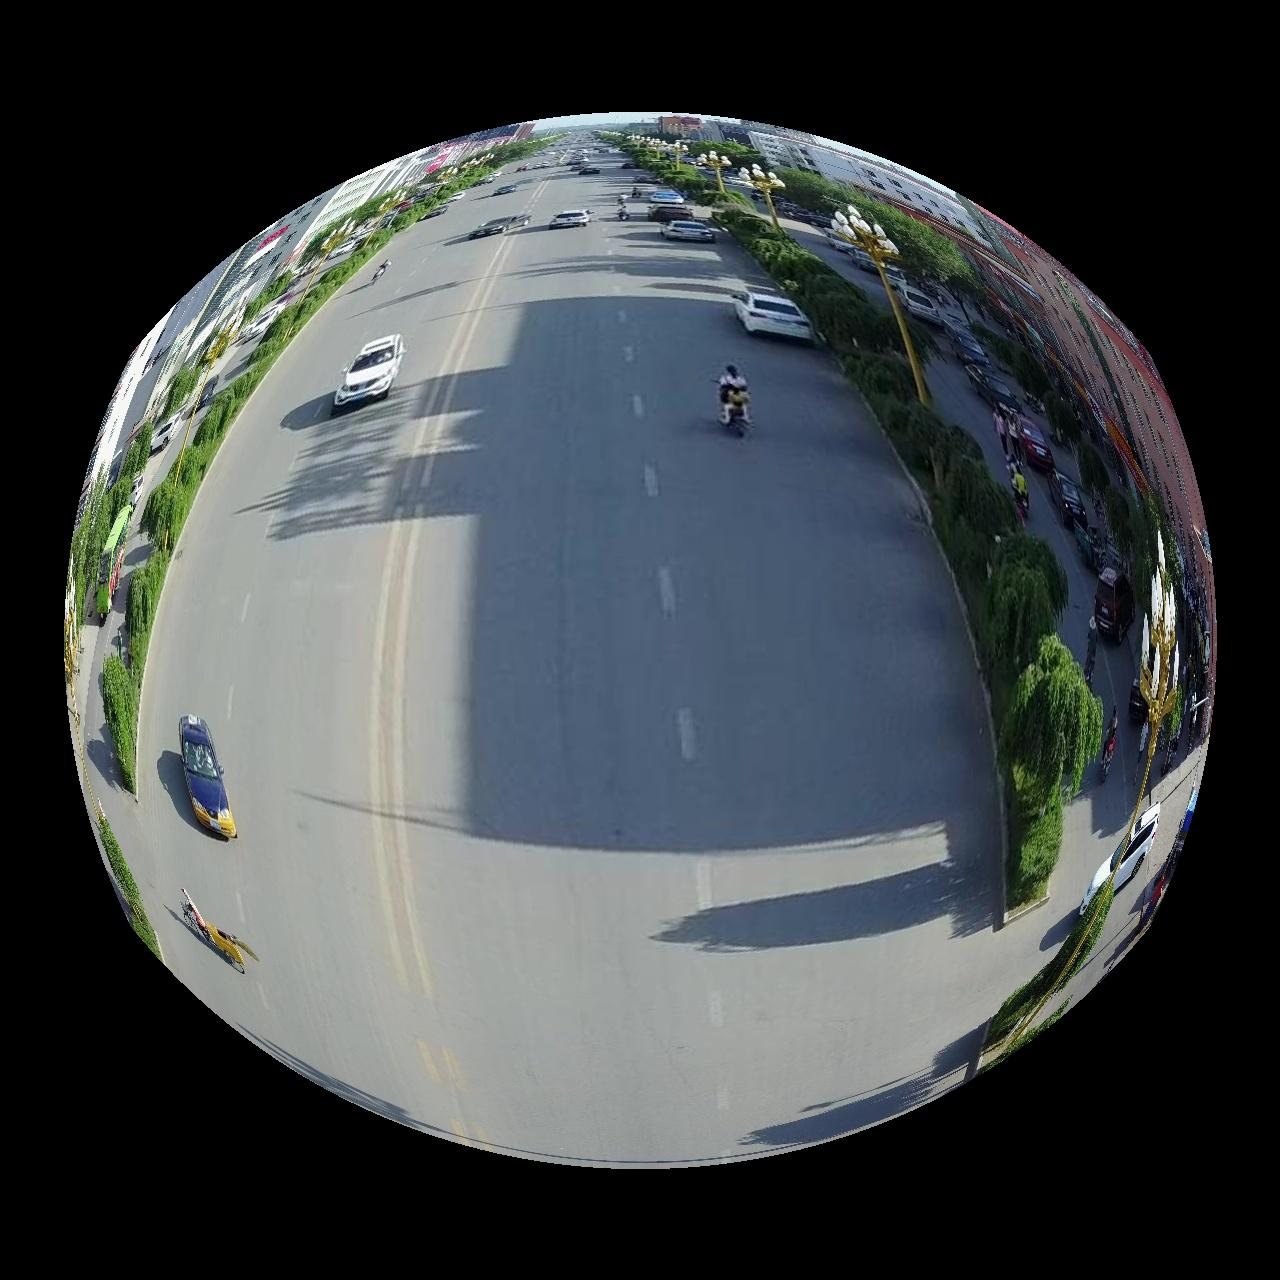cars: (178, 716, 236, 839), (333, 334, 406, 408), (734, 288, 815, 340), (468, 213, 530, 238), (662, 219, 716, 241), (549, 207, 591, 227), (651, 203, 694, 220), (651, 188, 685, 203)
trees: (722, 210, 1103, 911), (98, 211, 413, 794)
